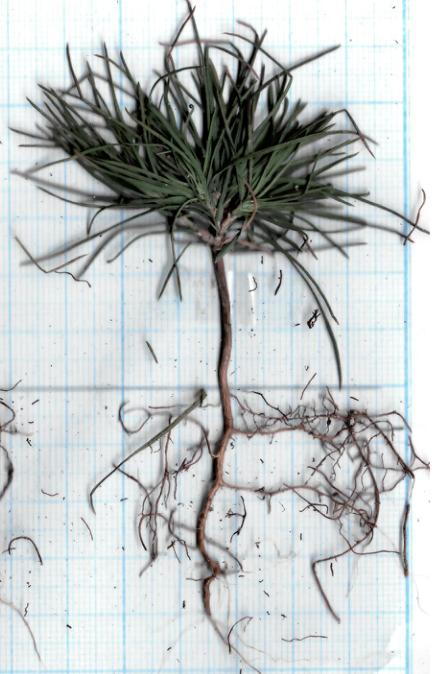flower: (3, 1, 400, 279)
root: (91, 400, 430, 674)
stem: (208, 263, 236, 408)
